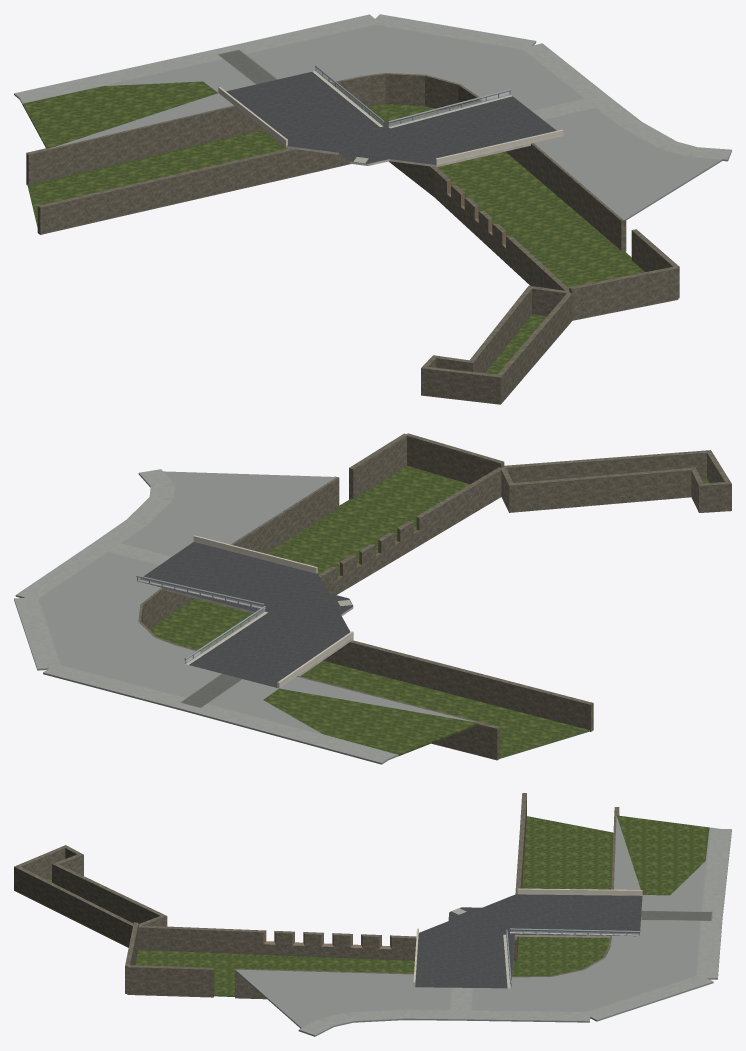
Rendered from site.glb.
3 renders of one model, top to bottom at view 1: azimuth 30°, elevation 25°; view 2: azimuth 150°, elevation 25°; view 3: azimuth 270°, elevation 25°, orthographic. The views are drawn at different scales.
Parts seen in each view (by area): view 1: R35_WALL_51946353_00_0, R38_PARK_APPROACH_GROUND, R35_MOAT_GROUND, R34_APPROACH_CONTINUOUS_DECK, R34_STONE_PARAPET_759554469, R58_POST_759554470_01; view 2: R38_PARK_APPROACH_GROUND, R35_WALL_51946353_00_0, R35_MOAT_GROUND, R34_APPROACH_CONTINUOUS_DECK, R34_STONE_PARAPET_759554469, R58_POST_759554470_01, R58_GLASS_759554470_00; view 3: R38_PARK_APPROACH_GROUND, R35_MOAT_GROUND, R35_WALL_51946353_00_0, R34_APPROACH_CONTINUOUS_DECK, R34_STONE_PARAPET_759554469, R58_POST_759554470_01.
Part boxes in pixels (x1,y1,x2,y2): R35_WALL_51946353_00_0: [26, 73, 679, 404]; R38_PARK_APPROACH_GROUND: [14, 14, 731, 219]; R35_MOAT_GROUND: [22, 81, 644, 374]; R34_APPROACH_CONTINUOUS_DECK: [226, 71, 556, 167]; R34_STONE_PARAPET_759554469: [218, 87, 563, 164]; R58_POST_759554470_01: [314, 65, 511, 126]; R38_PARK_APPROACH_GROUND: [14, 469, 475, 764]; R35_WALL_51946353_00_0: [138, 433, 731, 760]; R35_MOAT_GROUND: [149, 465, 709, 758]; R34_APPROACH_CONTINUOUS_DECK: [138, 542, 353, 687]; R34_STONE_PARAPET_759554469: [193, 535, 353, 688]; R58_POST_759554470_01: [136, 575, 265, 663]; R58_GLASS_759554470_00: [138, 578, 264, 662]; R38_PARK_APPROACH_GROUND: [235, 816, 731, 1036]; R35_MOAT_GROUND: [45, 815, 709, 996]; R35_WALL_51946353_00_0: [14, 793, 619, 999]; R34_APPROACH_CONTINUOUS_DECK: [415, 893, 642, 988]; R34_STONE_PARAPET_759554469: [413, 888, 642, 987]; R58_POST_759554470_01: [506, 928, 639, 987].
Size of the model in its own units: 110 by 6.83 by 135.
13 materials, 6 textured.
